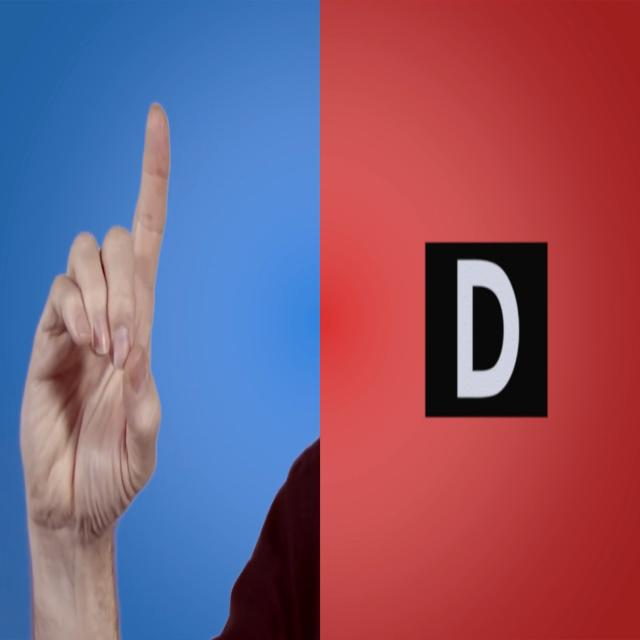D: (1, 73, 197, 640)
